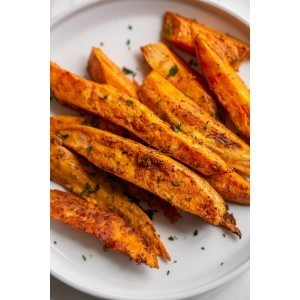sweet potato_brain food: (59, 29, 233, 242)
